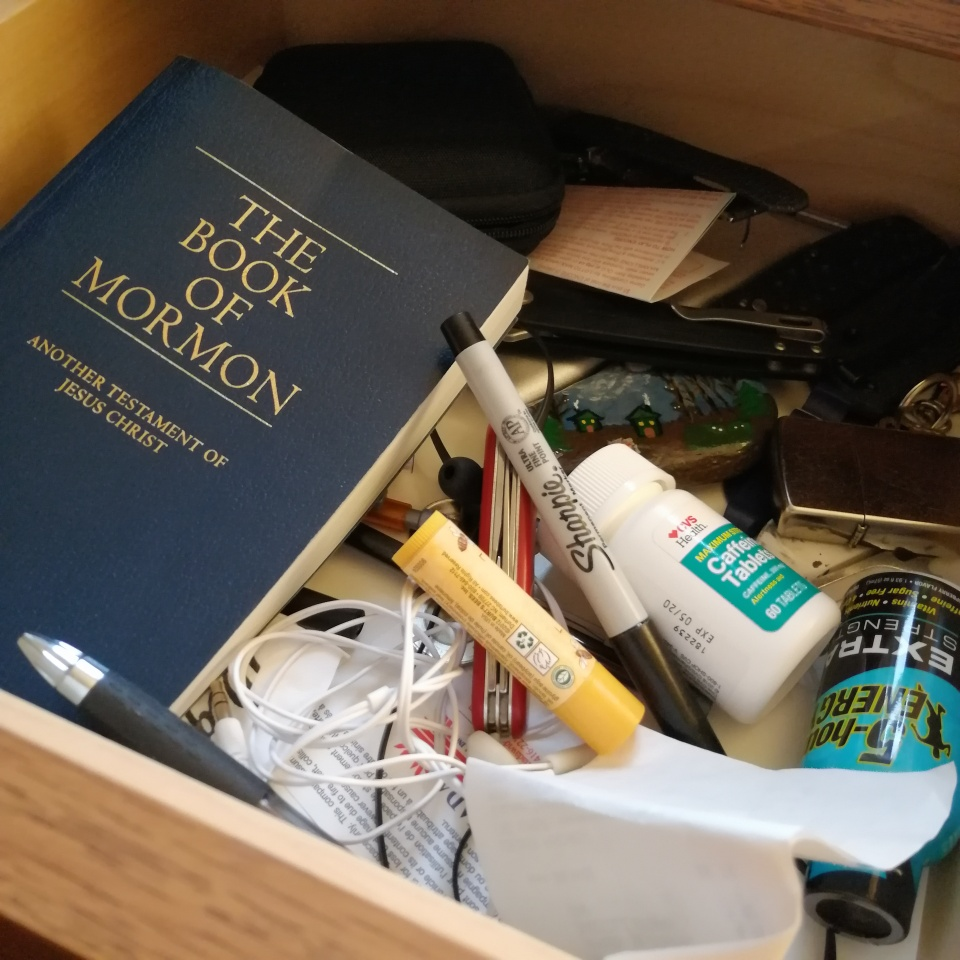chapstick: (391, 510, 646, 759)
